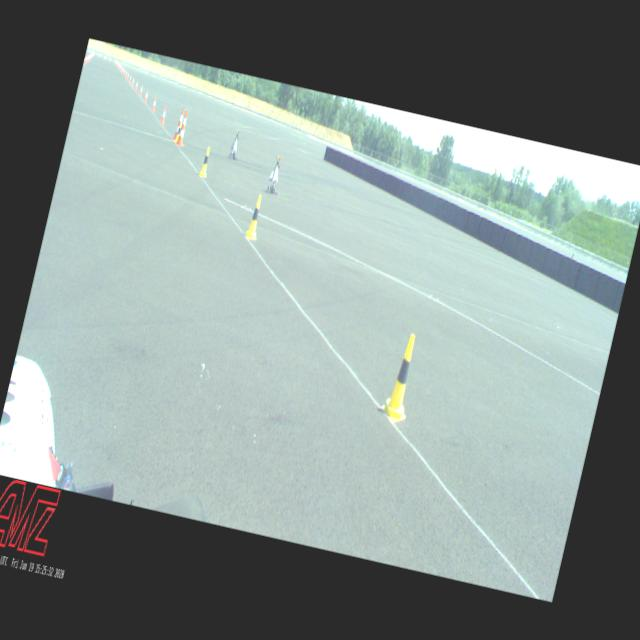large_orange_cone: (175, 108, 191, 146), (172, 106, 184, 140)
orange_cone: (160, 104, 168, 124), (150, 96, 158, 112), (138, 84, 144, 96), (143, 90, 149, 102), (131, 76, 135, 87), (134, 80, 138, 90), (128, 74, 132, 83)
yellow_cone: (378, 330, 424, 423), (243, 192, 266, 240), (198, 145, 213, 178), (173, 120, 182, 142)
